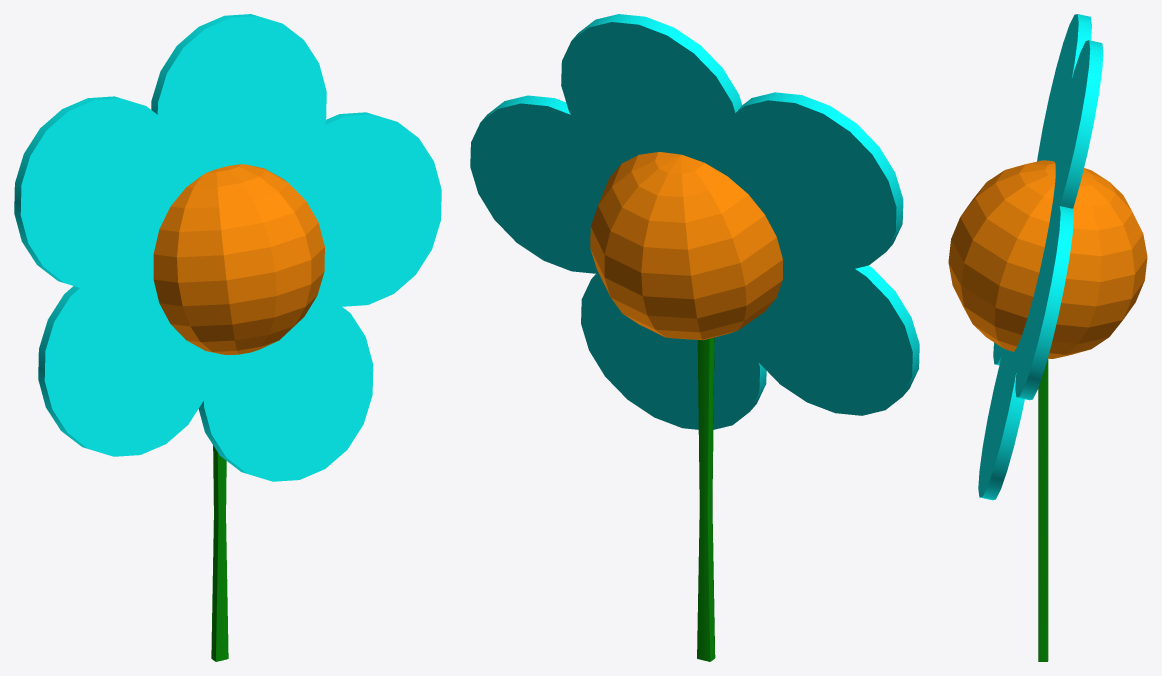
The model's file is flor_azul.obj.
The picture shows the model from 3 angles, left to right: view 1: azimuth 30°, elevation 25°; view 2: azimuth 150°, elevation 25°; view 3: azimuth 270°, elevation 25°; orthographic projection. The views are drawn at different scales.
Parts seen in each view (by area): view 1: polySurface8; view 2: polySurface8; view 3: polySurface8.
Boxes of the visible parts, box(x1,y1,x2,y2) form: polySurface8: box(14, 14, 441, 661); polySurface8: box(470, 14, 919, 661); polySurface8: box(948, 14, 1147, 661).
Size of the model in its own units: 1.69 by 2.41 by 0.694.
